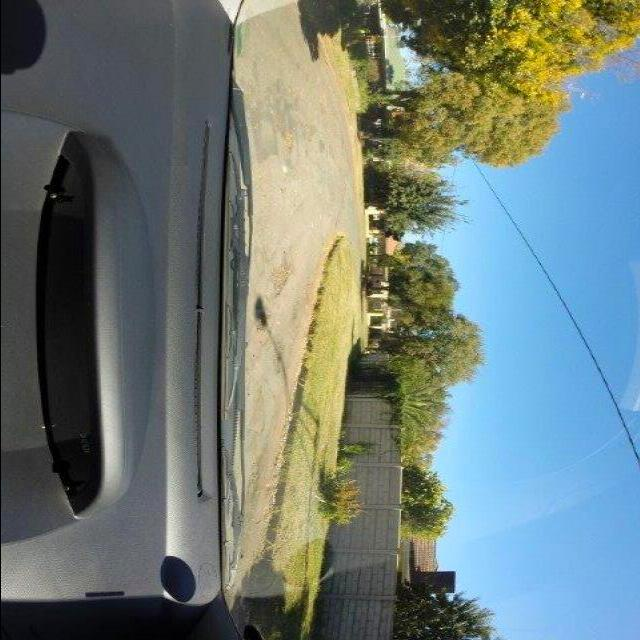lubang: (266, 255, 292, 300), (253, 310, 274, 346), (276, 125, 300, 153)
